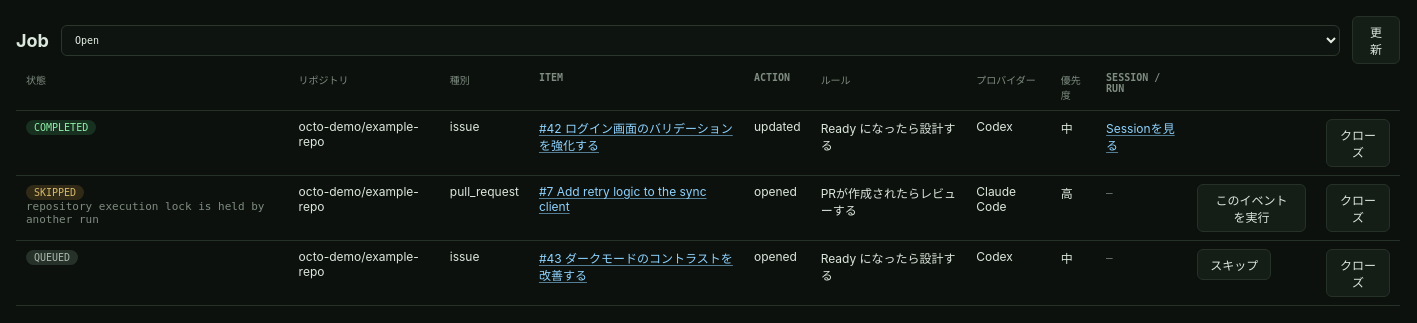
Test: GitHubEventsView › closes a job and cascades to close its linked session, hiding both from the default Open view
The width and height of the screenshot is (1417, 323).
Expected: the row that starts with "completed" is shown, [16,110,1400,176]
Click the button "クローズ" in the row of "completed" at (1358, 143), box [1326,119,1390,167]
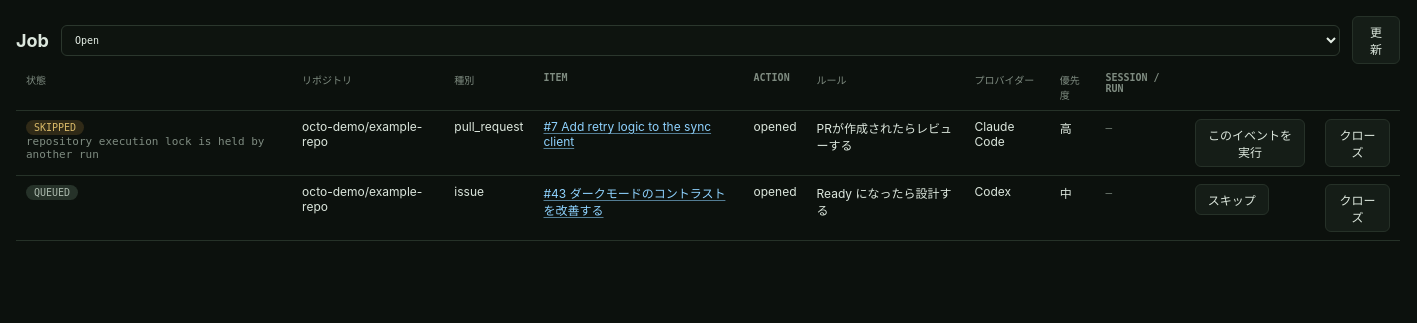
Now the text "ログイン画面のバリデーションを強化する" is gone
